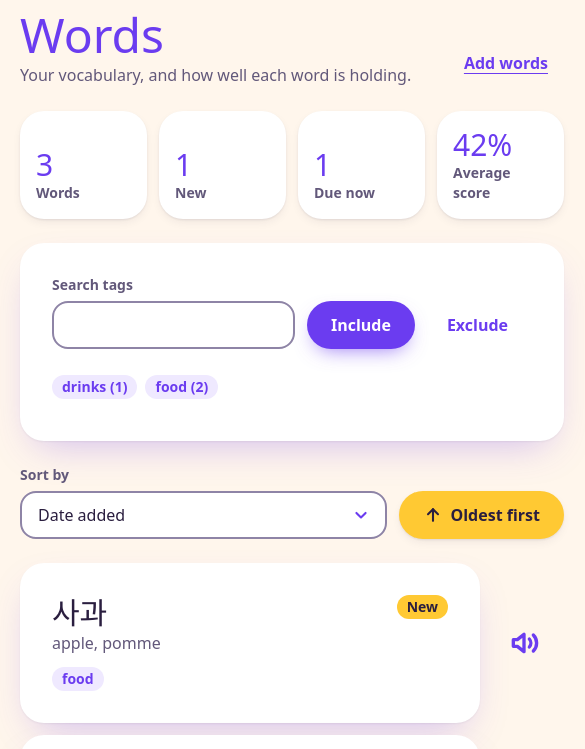
with the toggle on Exclude, a tapped tag is excluded
The width and height of the screenshot is (585, 749).
Step 1. Click the button "Exclude" → (477,325), box [423, 301, 532, 349]
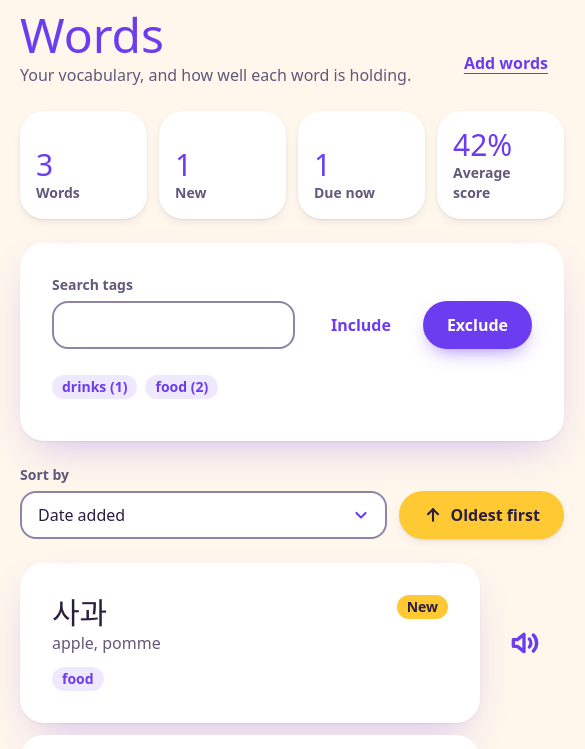
Step 2. Click the button "food (2)" → (182,387), box [146, 365, 218, 409]
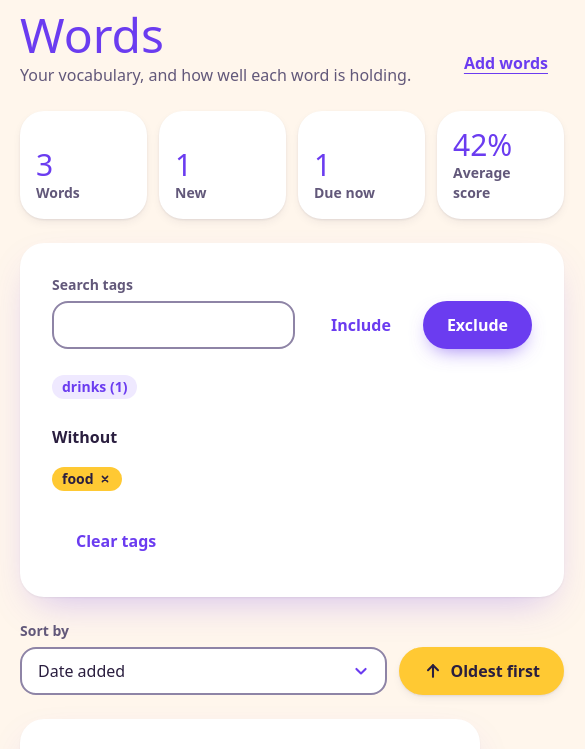
Check: the text "Without" is shown, box [52, 426, 117, 448]
